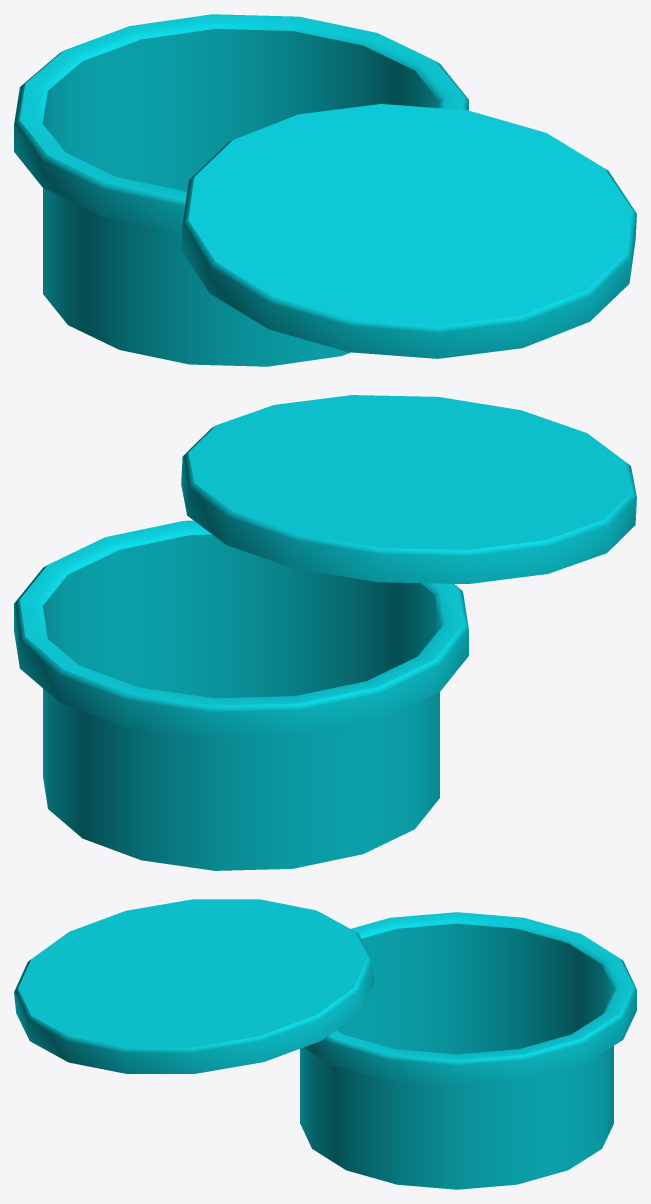
The model's file is Tombino_aperto.fbx.
3 renders of one model, top to bottom at view 1: azimuth 30°, elevation 25°; view 2: azimuth 150°, elevation 25°; view 3: azimuth 270°, elevation 25°, orthographic. The views are drawn at different scales.
Visible parts, largest first — view 1: tombino_aperto; view 2: tombino_aperto; view 3: tombino_aperto.
Boxes of the visible parts, bbox=[...] form: tombino_aperto: bbox=[14, 14, 636, 366]; tombino_aperto: bbox=[14, 395, 636, 870]; tombino_aperto: bbox=[14, 899, 636, 1189].
Size of the model in its own units: 79.96 by 40.46 by 138.
